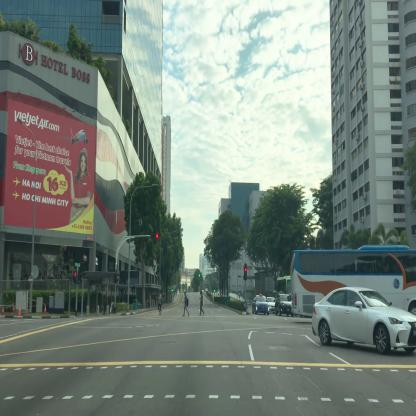red_traffic_light: (150, 233, 159, 238), (244, 266, 247, 280)
